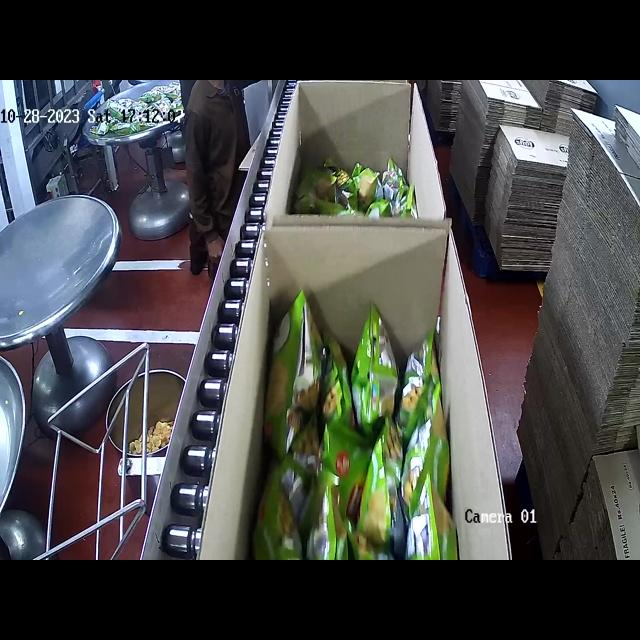yogurt: (251, 289, 458, 558), (293, 155, 414, 220)
